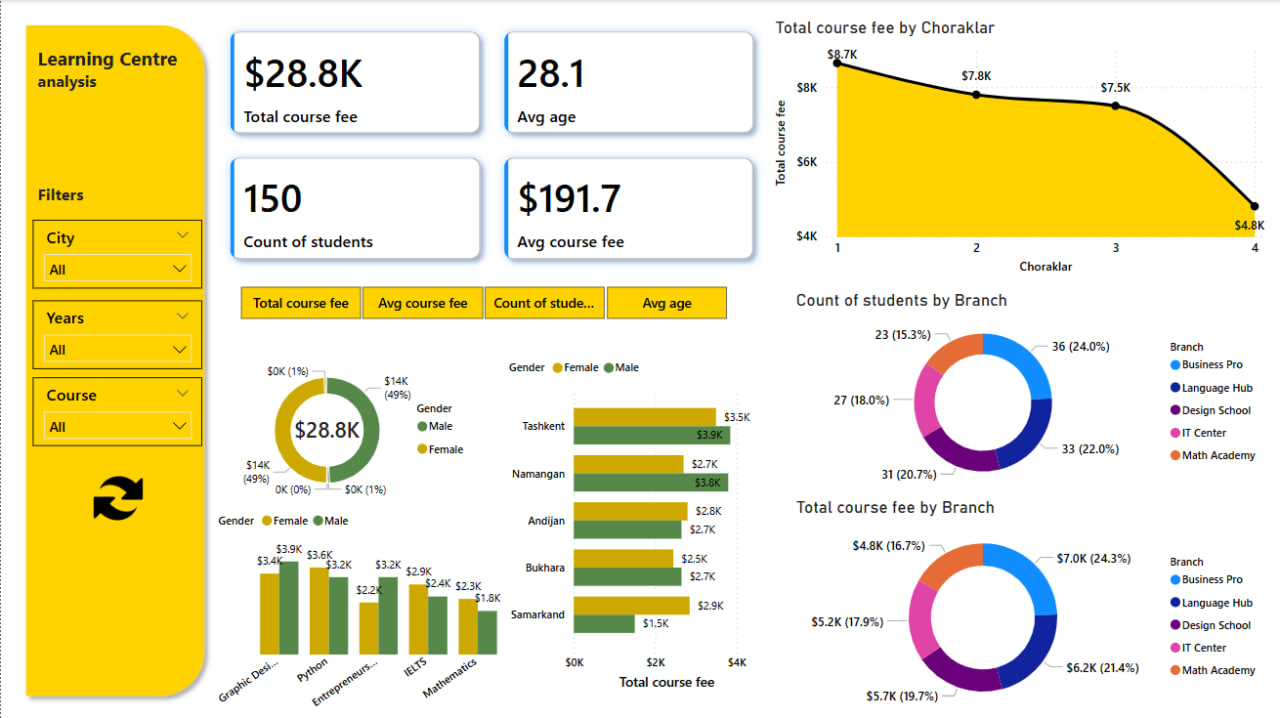

What the dashboard file says about the page in this screenshot:
{"tool":"powerbi","page":{"name":"Page 1","canvas":[1280,720],"ordinal":0},"visuals":[{"type":"shape","box":[15.7,15.7,197.1,690],"z":0},{"type":"cardVisual","fields":{"Data":["Sheet1.Total course fee","Sheet1.Avg age","Sheet1.Count of students","Sheet1.Avg course fee"]},"box":[212.5,15.3,558.3,262.5],"z":1000},{"type":"donutChart","fields":{"Y":["Sheet1.Total course fee","Sheet1.Avg course fee","Sheet1.Count of students","Sheet1.Avg age"],"Category":["Sheet1.Gender"]},"box":[231.9,350,245.8,162.5],"z":2000},{"type":"clusteredBarChart","fields":{"Y":["Sheet1.Total course fee"],"Category":["Sheet1.City"],"Series":["Sheet1.Gender"]},"box":[503.8,349.7,271.5,346.1],"z":3000},{"type":"textbox","box":[31.9,40.3,158.3,59.7],"z":4000},{"type":"lineChart","fields":{"Category":["Sheet1.Choraklar"],"Y":["Sheet1.Total course fee"]},"box":[770.8,16.7,500,262.5],"z":5000},{"type":"slicer","fields":{"Values":["Metrics.Metrics"]},"box":[214,280,536.8,46.5],"z":6000},{"type":"slicer","fields":{"Values":["Sheet1.City"]},"box":[31.8,220.1,170,68.5],"z":7000},{"type":"textbox","box":[31.8,178.5,143.1,41.6],"z":8000},{"type":"slicer","fields":{"Values":["Sheet1.Years"]},"box":[31.8,300.8,170,68.5],"z":9000},{"type":"slicer","fields":{"Values":["Sheet1.Course"]},"box":[31.8,377.9,170,68.5],"z":10000},{"type":"card","fields":{"Values":["Sheet1.Total course fee"]},"box":[286.1,407.2,80.7,50.1],"z":11000},{"type":"lineClusteredColumnComboChart","fields":{"Y":["Sheet1.Total course fee"],"Category":["Sheet1.Course"],"Series":["Sheet1.Gender"]},"box":[212.8,502.6,310.6,217.7],"z":12000},{"type":"donutChart","fields":{"Category":["Sheet1.Branch"],"Y":["Sheet1.Count of students"]},"box":[791.2,289.8,479.4,207.9],"z":13000},{"type":"donutChart","fields":{"Category":["Sheet1.Branch"],"Y":["Sheet1.Total course fee"]},"box":[791.2,497.7,479.4,222.6],"z":14000},{"type":"image","box":[31.8,457.3,171.2,83.2],"z":14500},{"type":"actionButton","box":[31.8,457.3,157.7,83.2],"z":15000}]}

Visuals, with their boxes in screenshot pixels (x1, y1, x2, y2), scaled from the page's 1280x720 canvas onto the 1280x718 screenshot:
shape: l=16, t=16, r=213, b=704
cardVisual - Sheet1.Total course fee x Sheet1.Avg age: l=212, t=15, r=771, b=277
donutChart - Sheet1.Total course fee x Sheet1.Avg course fee: l=232, t=349, r=478, b=511
clusteredBarChart - Sheet1.Total course fee x Sheet1.City: l=504, t=349, r=775, b=694
textbox: l=32, t=40, r=190, b=100
lineChart - Sheet1.Choraklar x Sheet1.Total course fee: l=771, t=17, r=1271, b=278
slicer - Metrics.Metrics: l=214, t=279, r=751, b=326
slicer - Sheet1.City: l=32, t=219, r=202, b=288
textbox: l=32, t=178, r=175, b=219
slicer - Sheet1.Years: l=32, t=300, r=202, b=368
slicer - Sheet1.Course: l=32, t=377, r=202, b=445
card - Sheet1.Total course fee: l=286, t=406, r=367, b=456
lineClusteredColumnComboChart - Sheet1.Total course fee x Sheet1.Course: l=213, t=501, r=523, b=717
donutChart - Sheet1.Branch x Sheet1.Count of students: l=791, t=289, r=1271, b=496
donutChart - Sheet1.Branch x Sheet1.Total course fee: l=791, t=496, r=1271, b=717
image: l=32, t=456, r=203, b=539
actionButton: l=32, t=456, r=190, b=539
